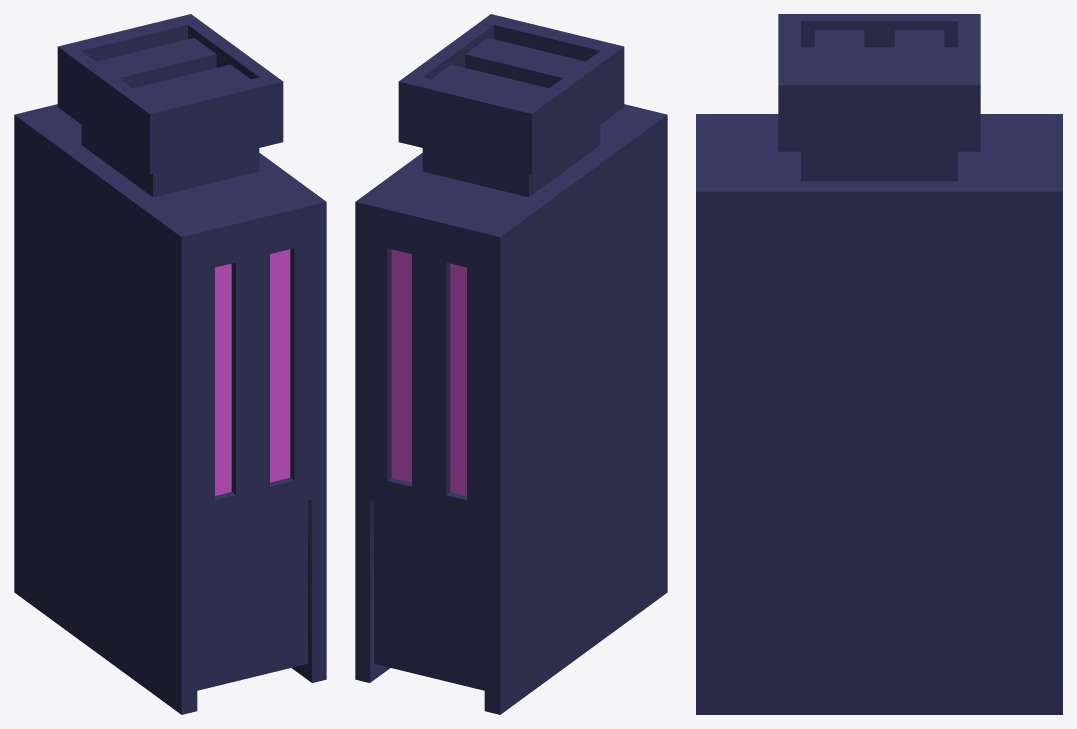
Rendered from Building_7.fbx.
3 views of the same model, side by side, from view 1: azimuth 30°, elevation 25°; view 2: azimuth 150°, elevation 25°; view 3: azimuth 270°, elevation 25° (orthographic). The views are drawn at different scales.
Visible parts, largest first — view 1: pCube2; view 2: pCube2; view 3: pCube2.
Part boxes in pixels (x1,y1,x2,y2): pCube2: (14,14,326,714); pCube2: (355,14,667,714); pCube2: (696,14,1062,714).
Size of the model in its own units: 2 by 7.54 by 4.
